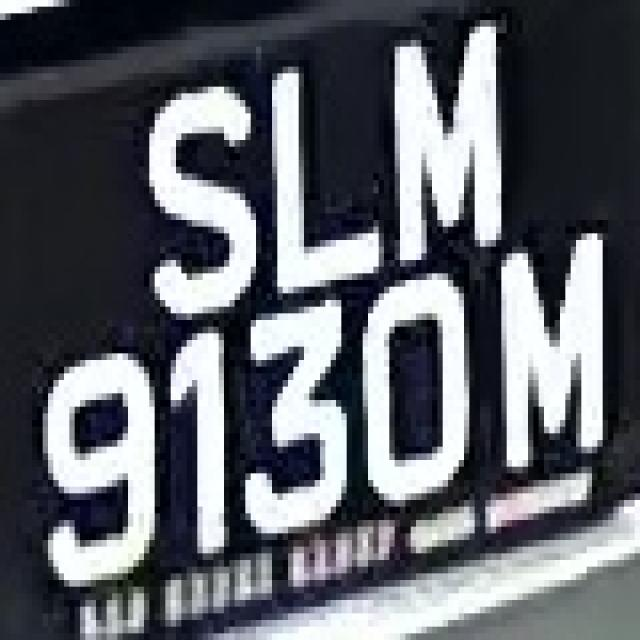0: (352, 260, 475, 520)
1: (166, 300, 246, 567)
3: (240, 300, 352, 553)
9: (21, 340, 166, 593)
L: (262, 47, 389, 293)
M: (373, 27, 518, 266), (480, 227, 608, 493)
S: (122, 73, 266, 320)
